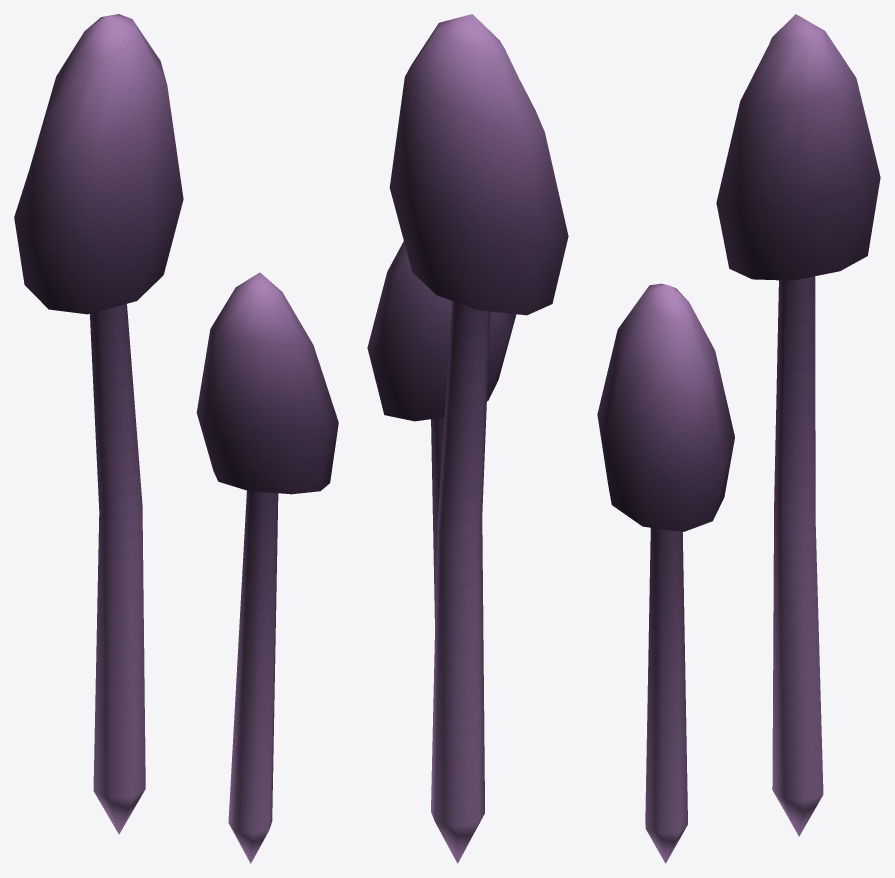
File: Mushroom_4B.fbx
The picture shows the model from 3 angles, left to right: view 1: azimuth 30°, elevation 25°; view 2: azimuth 150°, elevation 25°; view 3: azimuth 270°, elevation 25°; orthographic projection. The views are drawn at different scales.
Parts seen in each view (by area): view 1: Mushroom_4B; view 2: Mushroom_4B; view 3: Mushroom_4B.
Boxes of the visible parts, left/top/right/bottom form: Mushroom_4B: left=14, top=14, right=338, bottom=863; Mushroom_4B: left=367, top=14, right=568, bottom=863; Mushroom_4B: left=597, top=14, right=880, bottom=863.
Size of the model in its own units: 0.1832 by 0.6172 by 0.194.
